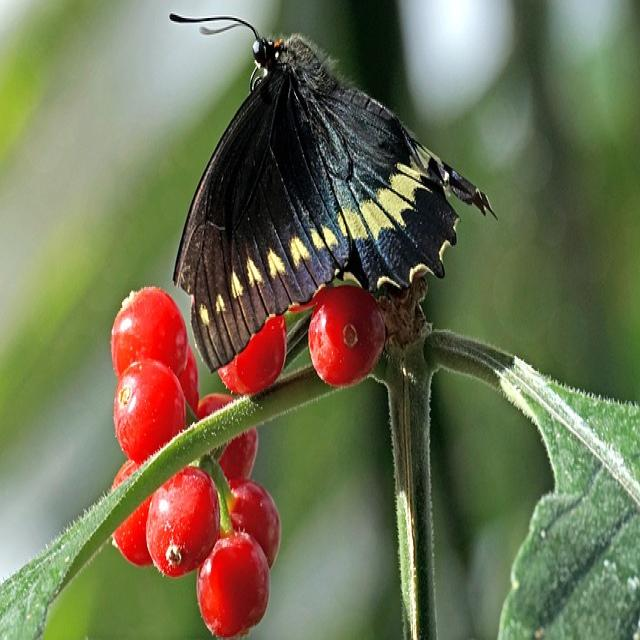butterfly: (172, 17, 495, 389)
